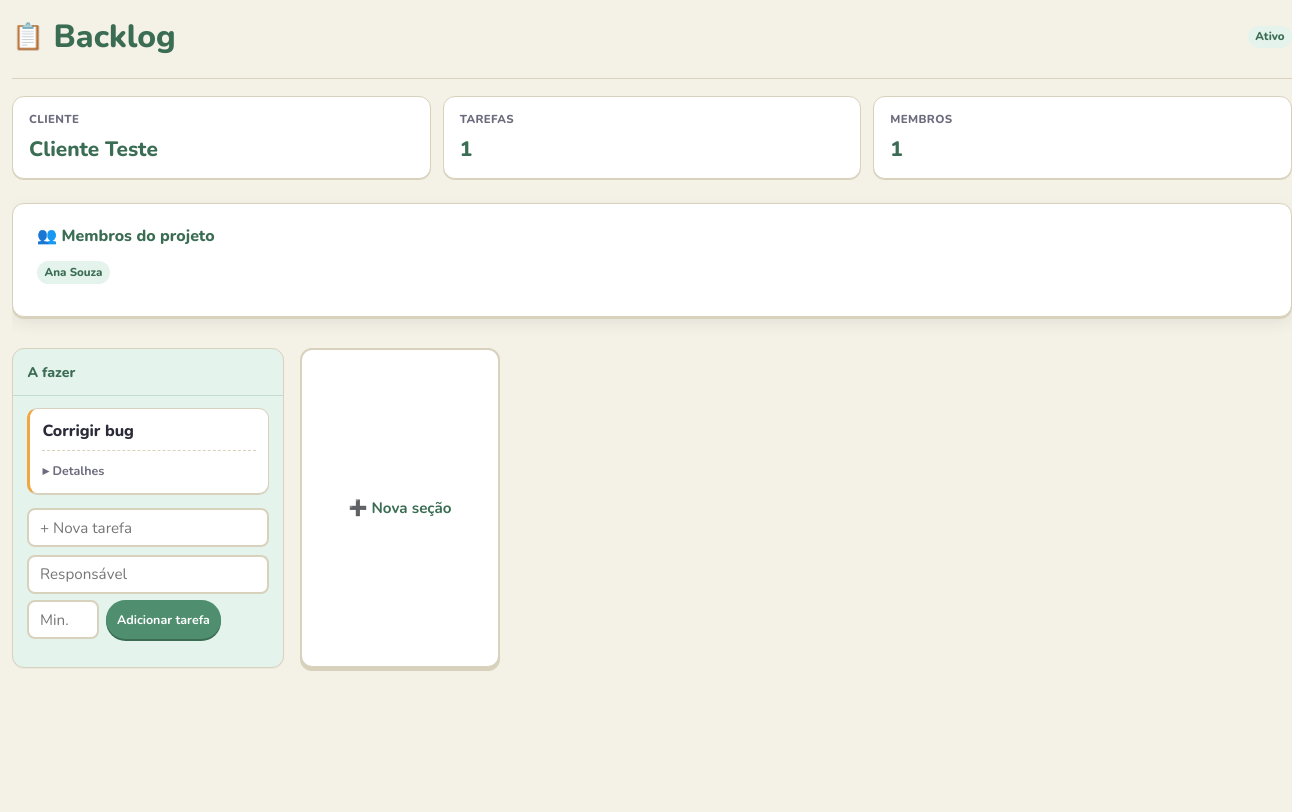
Test case: ProjetoDetalhePage › sugere todas as pessoas cadastradas (não só os membros do projeto) como opções pro campo de responsável
Expected: the button "Corrigir bug" is shown, x1=42 y1=420 x2=134 y2=442
Click the dropdown named "nome do responsável": x=148, y=574 x1=27 y1=555 x2=269 y2=594
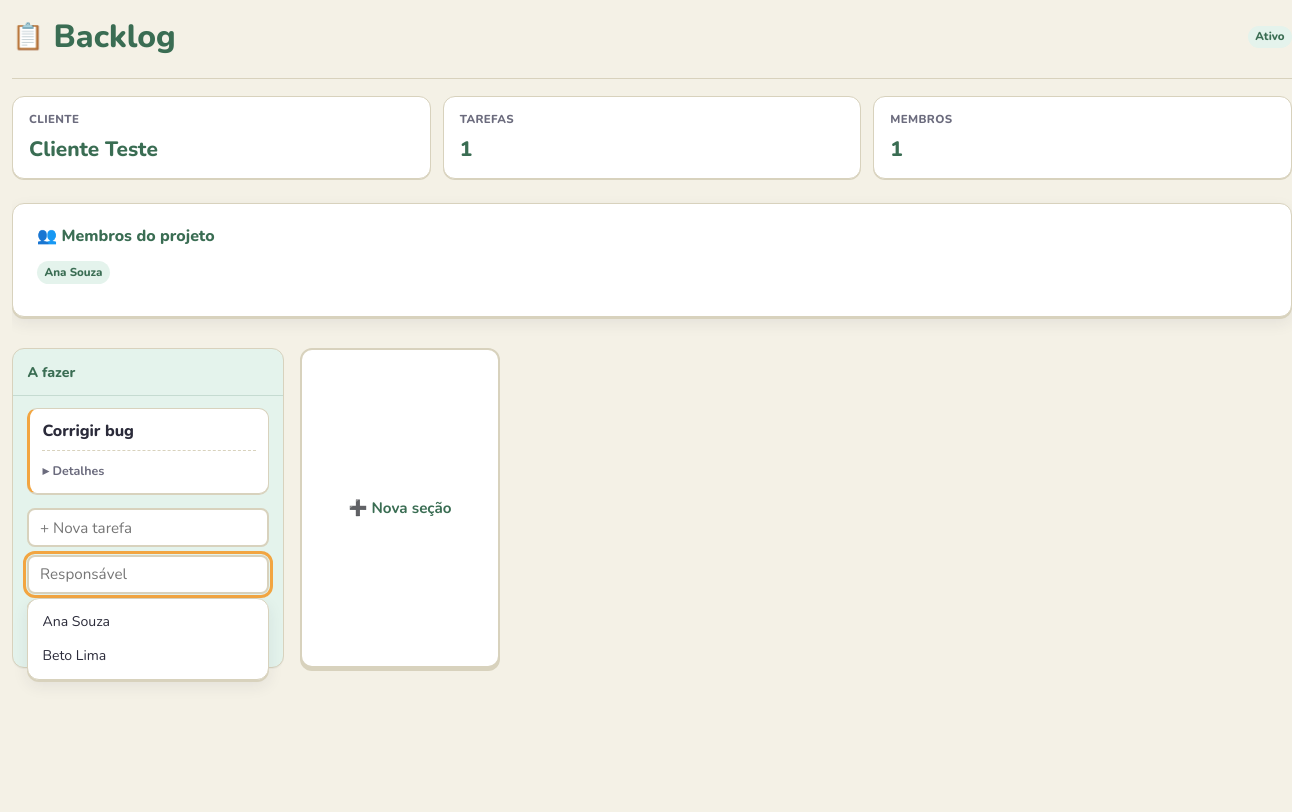
Expected: the options read "Ana Souza", "Beto Lima", in this order, x1=42 y1=612 x2=110 y2=631; x1=42 y1=646 x2=106 y2=665
